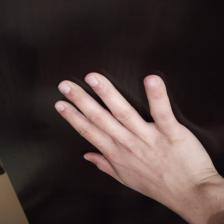five: (42, 69, 215, 194)
